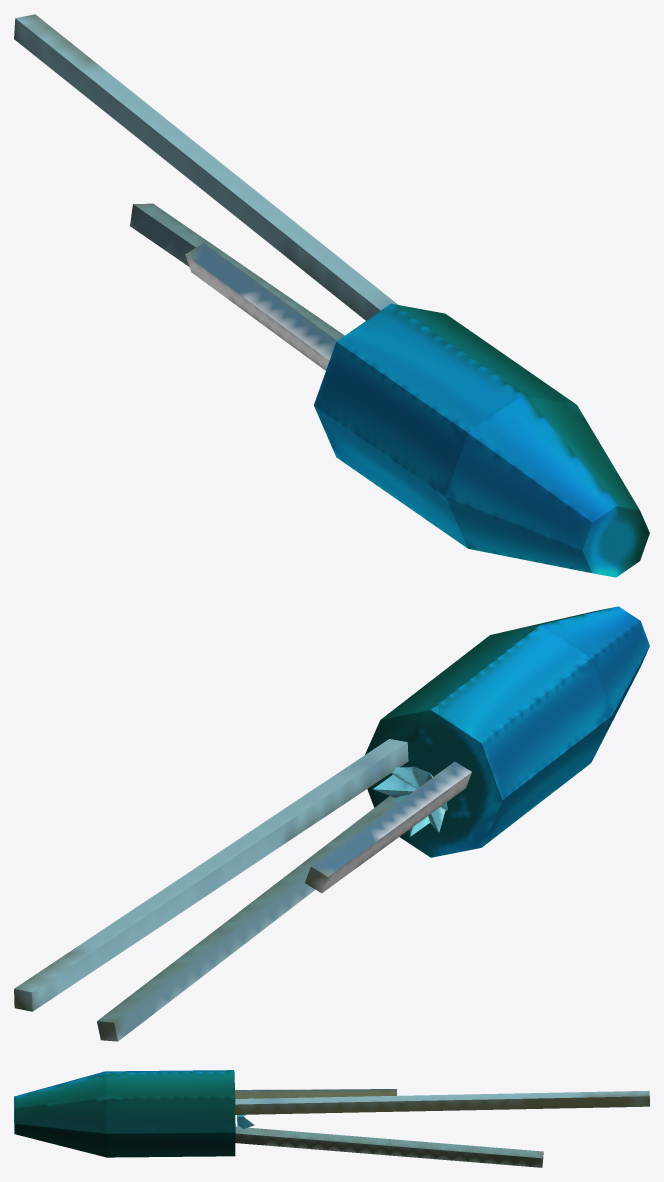
3 views of the same model, one above another, from view 1: azimuth 30°, elevation 25°; view 2: azimuth 150°, elevation 25°; view 3: azimuth 270°, elevation 25° (orthographic). The views are drawn at different scales.
Parts seen in each view (by area): view 1: Bala_Cylinder.003, Estela_1_Cube.006, Estela_2_Cube.007, Estela_3_Cube.008; view 2: Bala_Cylinder.003, Estela_1_Cube.006, Estela_3_Cube.008, Estela_2_Cube.007, Fogonazo_Cylinder.004; view 3: Bala_Cylinder.003, Estela_1_Cube.006, Estela_3_Cube.008, Estela_2_Cube.007, Fogonazo_Cylinder.004.
Boxes of the visible parts, x1,y1,x2,y2 form: Bala_Cylinder.003: (314,303,649,577); Estela_1_Cube.006: (14,14,397,320); Estela_2_Cube.007: (185,243,336,370); Estela_3_Cube.008: (130,203,344,340); Bala_Cylinder.003: (365,606,649,857); Estela_1_Cube.006: (14,739,408,1011); Estela_3_Cube.008: (97,796,398,1041); Estela_2_Cube.007: (305,761,471,893); Fogonazo_Cylinder.004: (373,766,447,836); Bala_Cylinder.003: (14,1070,235,1157); Estela_1_Cube.006: (235,1090,649,1114); Estela_3_Cube.008: (235,1126,543,1167); Estela_2_Cube.007: (235,1089,396,1098); Fogonazo_Cylinder.004: (237,1097,254,1130).
Bounding box in the file's own units: 0.2897 × 0.2805 × 1.94.
